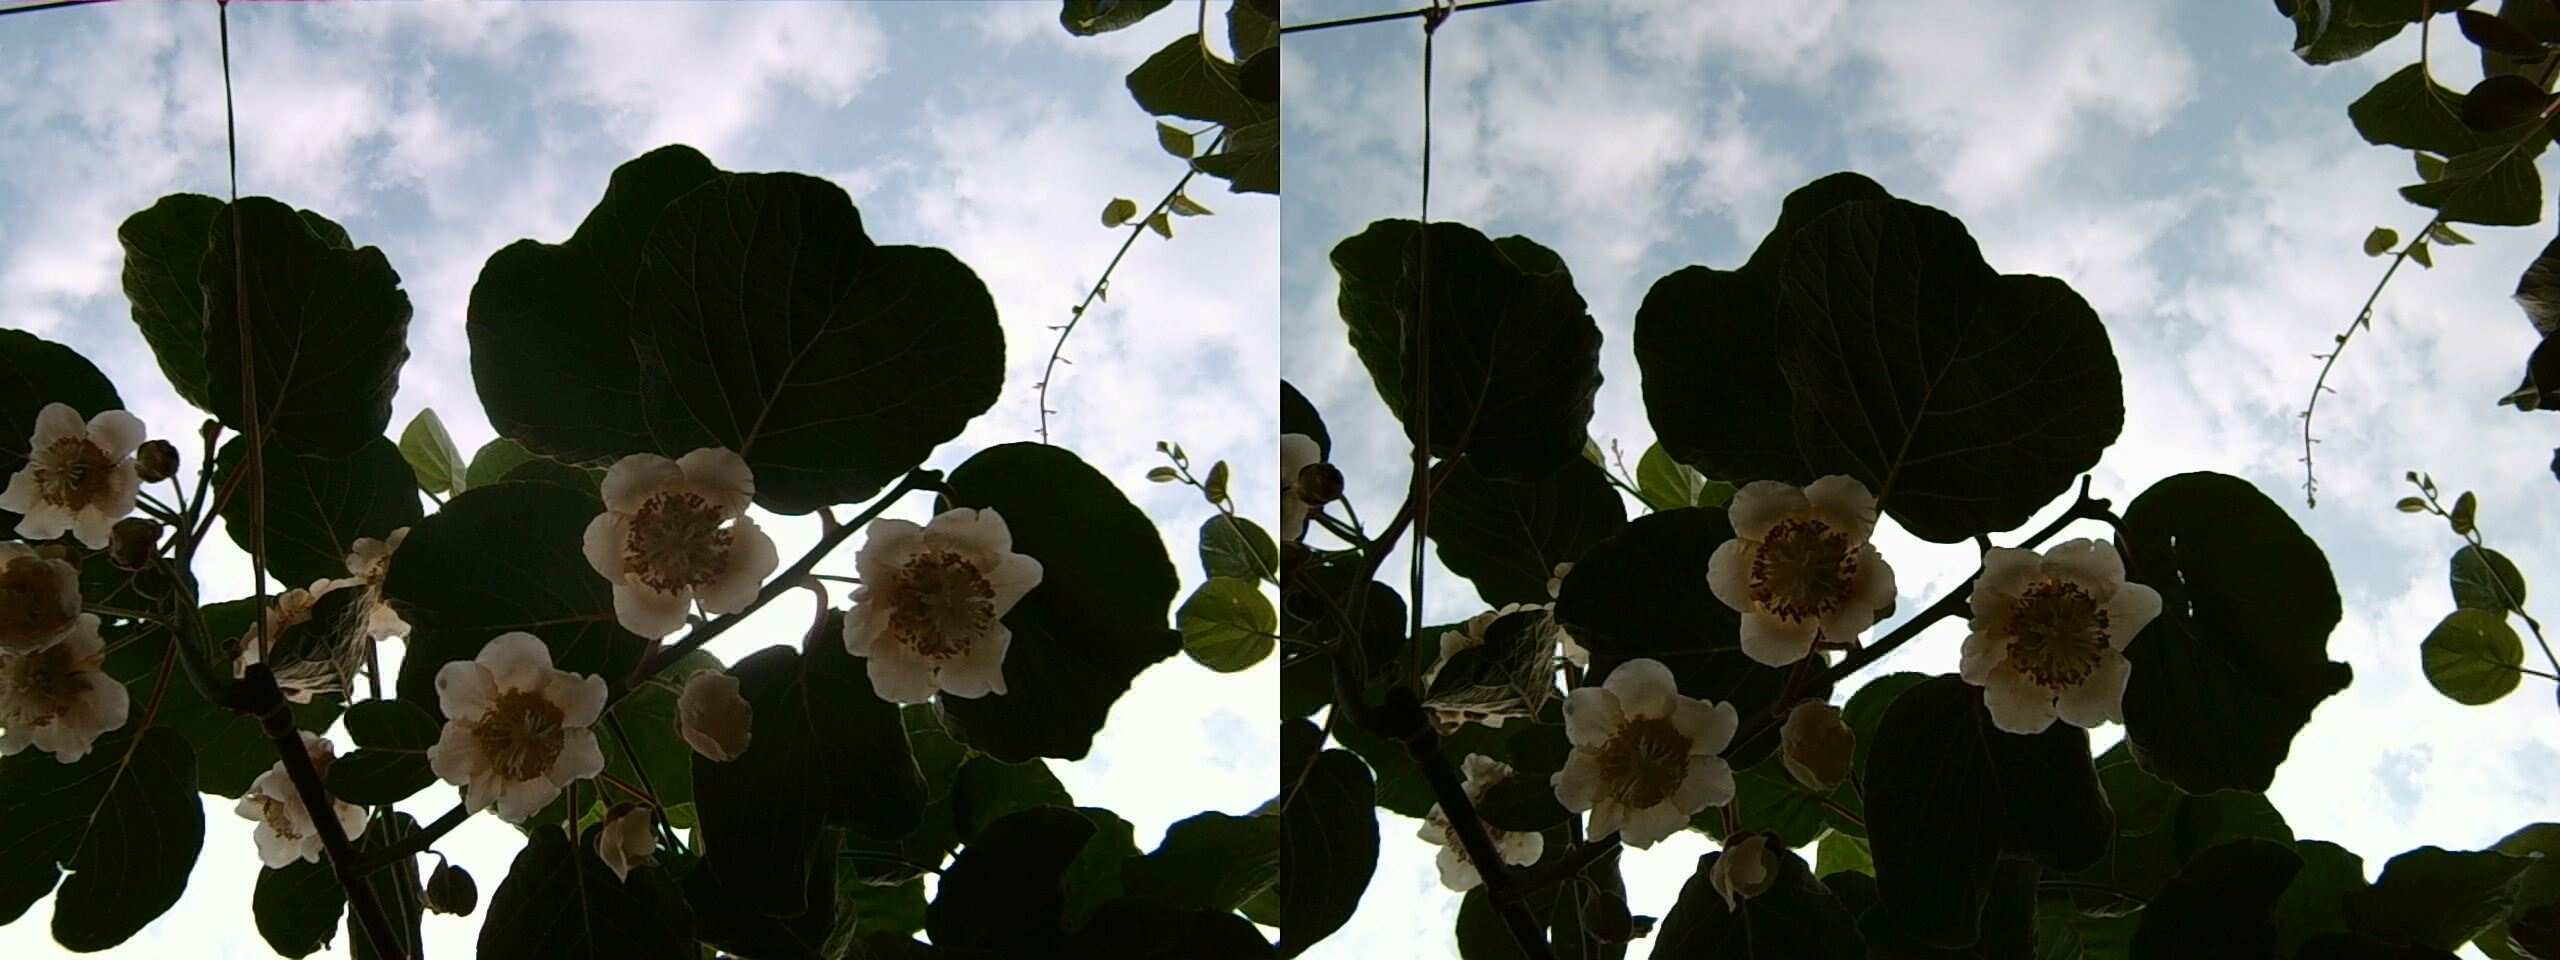flower: (1944, 522, 2165, 741), (828, 500, 1045, 710), (568, 434, 785, 645), (405, 625, 622, 824), (1700, 464, 1904, 668), (1538, 653, 1749, 846), (0, 557, 136, 762), (0, 397, 181, 550)
